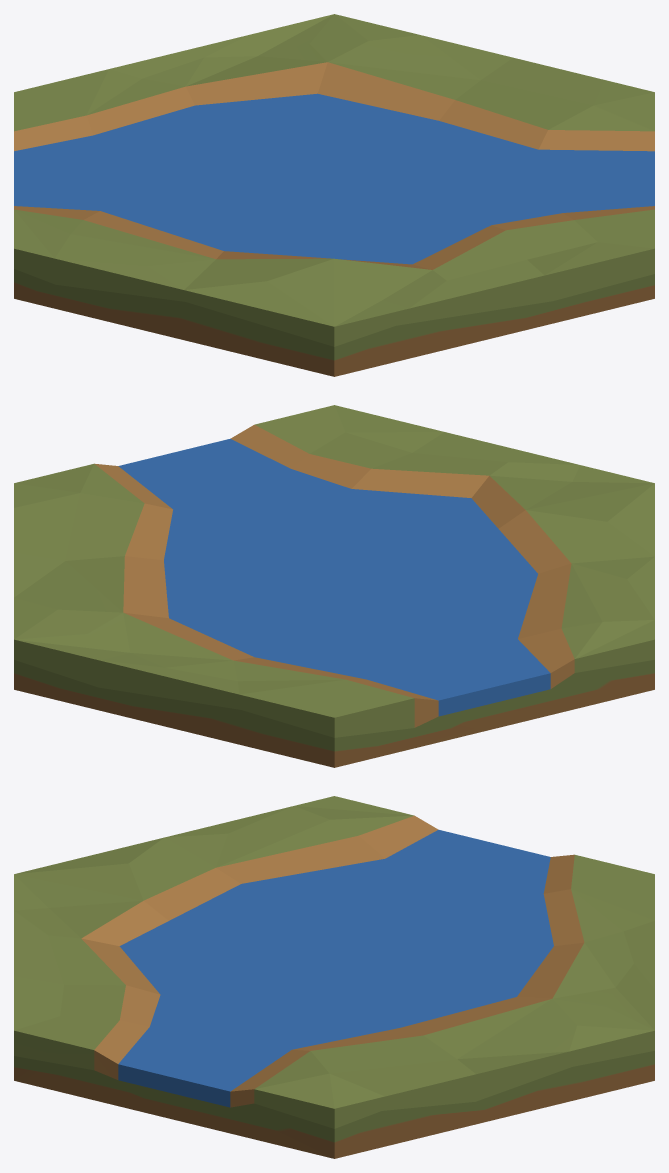
Rendered from SM_Tile_Hex_River_08.glb.
The picture shows the model from 3 angles, top to bottom: view 1: azimuth 30°, elevation 25°; view 2: azimuth 150°, elevation 25°; view 3: azimuth 270°, elevation 25°; orthographic projection.
Visible parts, largest first — view 1: SM_Tile_Hex_River_08; view 2: SM_Tile_Hex_River_08; view 3: SM_Tile_Hex_River_08.
Boxes of the visible parts, box(x1,y1,x2,y2) form: SM_Tile_Hex_River_08: box(14, 14, 654, 376); SM_Tile_Hex_River_08: box(14, 405, 654, 767); SM_Tile_Hex_River_08: box(14, 796, 654, 1158).
Size of the model in its own units: 5.77 by 0.4825 by 5.
1 material, 1 textured.
